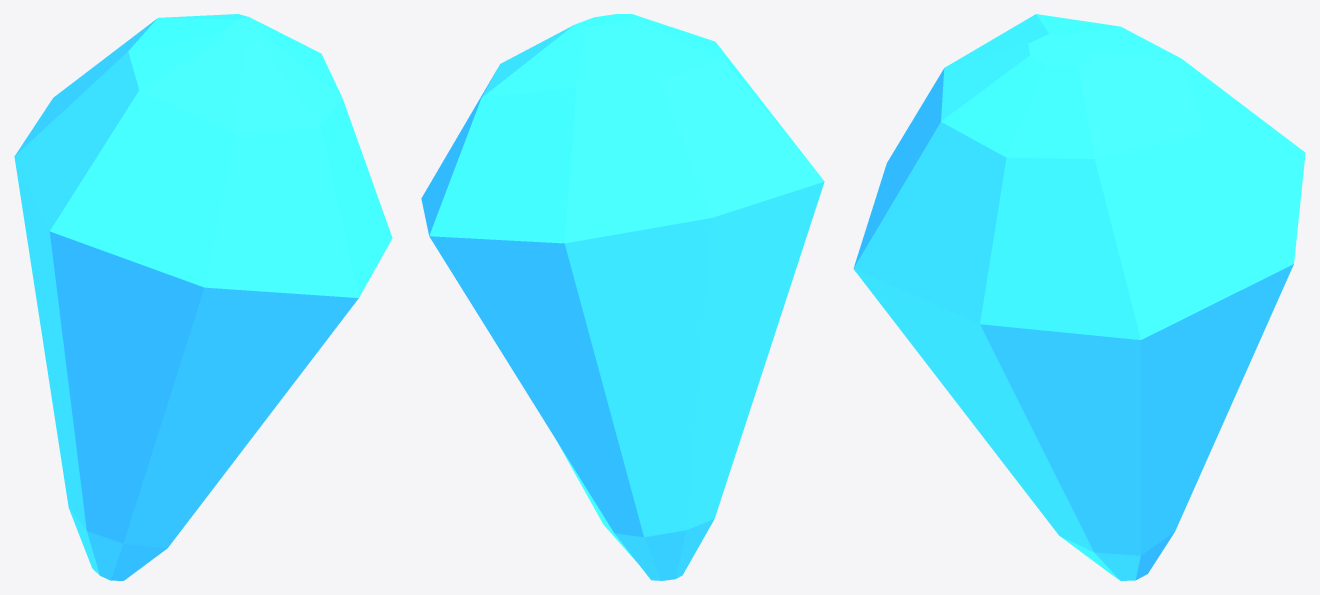
File: ME_Gem.fbx
The picture shows the model from 3 angles, left to right: view 1: azimuth 30°, elevation 25°; view 2: azimuth 150°, elevation 25°; view 3: azimuth 270°, elevation 25°; orthographic projection. The views are drawn at different scales.
Parts seen in each view (by area): view 1: SM_GemsSpawner.001; view 2: SM_GemsSpawner.001; view 3: SM_GemsSpawner.001.
Part boxes in pixels (<box>): SM_GemsSpawner.001: <box>14,14,392,580</box>; SM_GemsSpawner.001: <box>421,14,824,580</box>; SM_GemsSpawner.001: <box>853,14,1305,580</box>.
Size of the model in its own units: 53.21 by 75.51 by 53.45.
